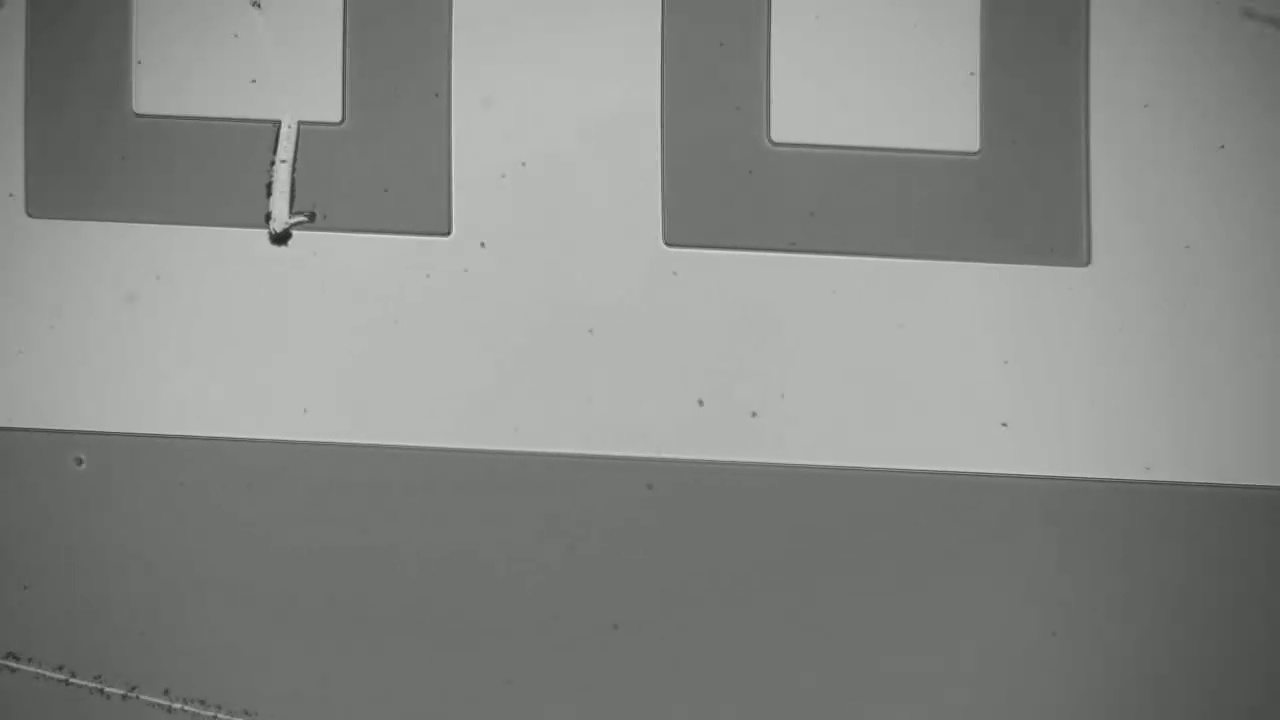Short_circuit: (247, 100, 313, 257)
scratch: (0, 602, 264, 720)
